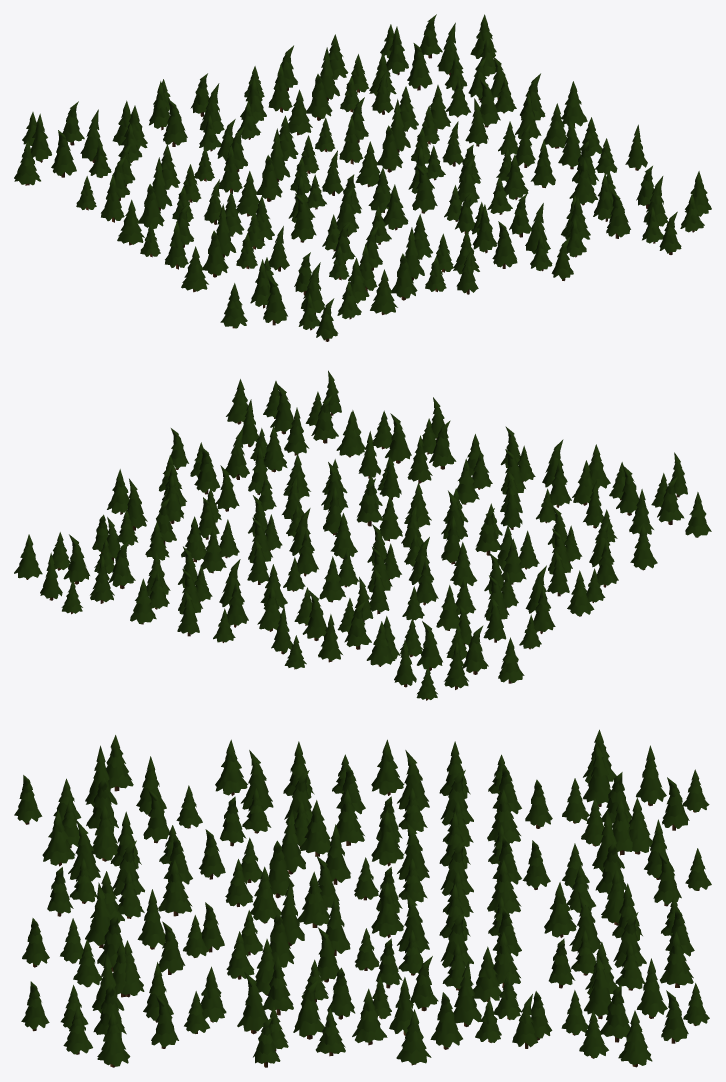
Rendered from pineTree2.obj.
3 renders of one model, top to bottom at view 1: azimuth 30°, elevation 25°; view 2: azimuth 150°, elevation 25°; view 3: azimuth 270°, elevation 25°, orthographic. The views are drawn at different scales.
Visible parts, largest first — view 1: Resource_PineTree_Group.006_Cylinder.006, Resource_PineTree_Group.009_Cylinder.009, Resource_PineTree_Group.003_Cylinder.003, Resource_PineTree_Group.013_Cylinder.013, Resource_PineTree_Group.011_Cylinder.011, Resource_PineTree_Group.002_Cylinder.002, Resource_PineTree_Group.008_Cylinder.008, Resource_PineTree_Group.012_Cylinder.012, Resource_PineTree_Group_Cylinder.015, Resource_PineTree_Group.015_Cylinder.016, Resource_PineTree_Group.007_Cylinder.007, Resource_PineTree_Group.005_Cylinder.005 (+4 smaller); view 2: Resource_PineTree_Group.015_Cylinder.016, Resource_PineTree_Group.001_Cylinder.001, Resource_PineTree_Group.008_Cylinder.008, Resource_PineTree_Group.014_Cylinder.014, Resource_PineTree_Group.003_Cylinder.003, Resource_PineTree_Group.012_Cylinder.012, Resource_PineTree_Group.013_Cylinder.013, Resource_PineTree_Group.009_Cylinder.009, Resource_PineTree_Group.004_Cylinder.004, Resource_PineTree_Group.002_Cylinder.002, Resource_PineTree_Group_Cylinder.015, Resource_PineTree_Group.006_Cylinder.006 (+4 smaller); view 3: Resource_PineTree_Group.002_Cylinder.002, Resource_PineTree_Group.006_Cylinder.006, Resource_PineTree_Group.010_Cylinder.010, Resource_PineTree_Group.001_Cylinder.001, Resource_PineTree_Group.007_Cylinder.007, Resource_PineTree_Group.015_Cylinder.016, Resource_PineTree_Group.011_Cylinder.011, Resource_PineTree_Group.004_Cylinder.004, Resource_PineTree_Group_Cylinder.015, Resource_PineTree_Group.005_Cylinder.005, Resource_PineTree_Group.008_Cylinder.008, Resource_PineTree_Group.003_Cylinder.003 (+4 smaller).
Boxes of the visible parts, x1=… form: Resource_PineTree_Group.006_Cylinder.006: x1=496, y1=103, x2=647, y2=205; Resource_PineTree_Group.009_Cylinder.009: x1=140, y1=191, x2=289, y2=292; Resource_PineTree_Group.003_Cylinder.003: x1=315, y1=86, x2=463, y2=187; Resource_PineTree_Group.013_Cylinder.013: x1=194, y1=115, x2=343, y2=216; Resource_PineTree_Group.011_Cylinder.011: x1=329, y1=214, x2=478, y2=314; Resource_PineTree_Group.002_Cylinder.002: x1=429, y1=56, x2=587, y2=154; Resource_PineTree_Group.008_Cylinder.008: x1=220, y1=252, x2=369, y2=341; Resource_PineTree_Group.012_Cylinder.012: x1=76, y1=144, x2=221, y2=245; Resource_PineTree_Group_Cylinder.015: x1=244, y1=34, x2=393, y2=135; Resource_PineTree_Group.015_Cylinder.016: x1=14, y1=100, x2=142, y2=186; Resource_PineTree_Group.007_Cylinder.007: x1=368, y1=144, x2=528, y2=233; Resource_PineTree_Group.005_Cylinder.005: x1=563, y1=166, x2=711, y2=254; Resource_PineTree_Group.015_Cylinder.016: x1=366, y1=603, x2=524, y2=700; Resource_PineTree_Group.001_Cylinder.001: x1=14, y1=517, x2=170, y2=614; Resource_PineTree_Group.008_Cylinder.008: x1=572, y1=452, x2=711, y2=542; Resource_PineTree_Group.014_Cylinder.014: x1=257, y1=577, x2=400, y2=669; Resource_PineTree_Group.003_Cylinder.003: x1=200, y1=495, x2=357, y2=591; Resource_PineTree_Group.012_Cylinder.012: x1=436, y1=552, x2=594, y2=649; Resource_PineTree_Group.013_Cylinder.013: x1=319, y1=524, x2=477, y2=620; Resource_PineTree_Group.009_Cylinder.009: x1=502, y1=506, x2=657, y2=602; Resource_PineTree_Group.004_Cylinder.004: x1=336, y1=397, x2=489, y2=490; Resource_PineTree_Group.002_Cylinder.002: x1=92, y1=469, x2=221, y2=562; Resource_PineTree_Group_Cylinder.015: x1=130, y1=546, x2=287, y2=642; Resource_PineTree_Group.006_Cylinder.006: x1=159, y1=426, x2=287, y2=511; Resource_PineTree_Group.002_Cylinder.002: x1=372, y1=946, x2=537, y2=1065; Resource_PineTree_Group.006_Cylinder.006: x1=200, y1=955, x2=387, y2=1067; Resource_PineTree_Group.010_Cylinder.010: x1=199, y1=800, x2=378, y2=923; Resource_PineTree_Group.001_Cylinder.001: x1=531, y1=942, x2=709, y2=1067; Resource_PineTree_Group.007_Cylinder.007: x1=202, y1=871, x2=379, y2=995; Resource_PineTree_Group.015_Cylinder.016: x1=525, y1=729, x2=709, y2=854; Resource_PineTree_Group.011_Cylinder.011: x1=42, y1=810, x2=192, y2=918; Resource_PineTree_Group.004_Cylinder.004: x1=22, y1=871, x2=209, y2=997; Resource_PineTree_Group_Cylinder.015: x1=544, y1=882, x2=694, y2=990; Resource_PineTree_Group.005_Cylinder.005: x1=21, y1=941, x2=209, y2=1067; Resource_PineTree_Group.008_Cylinder.008: x1=14, y1=735, x2=202, y2=861; Resource_PineTree_Group.003_Cylinder.003: x1=371, y1=882, x2=521, y2=990.
Bounding box in the file's own units: 8.01 × 0.7711 × 7.97.
